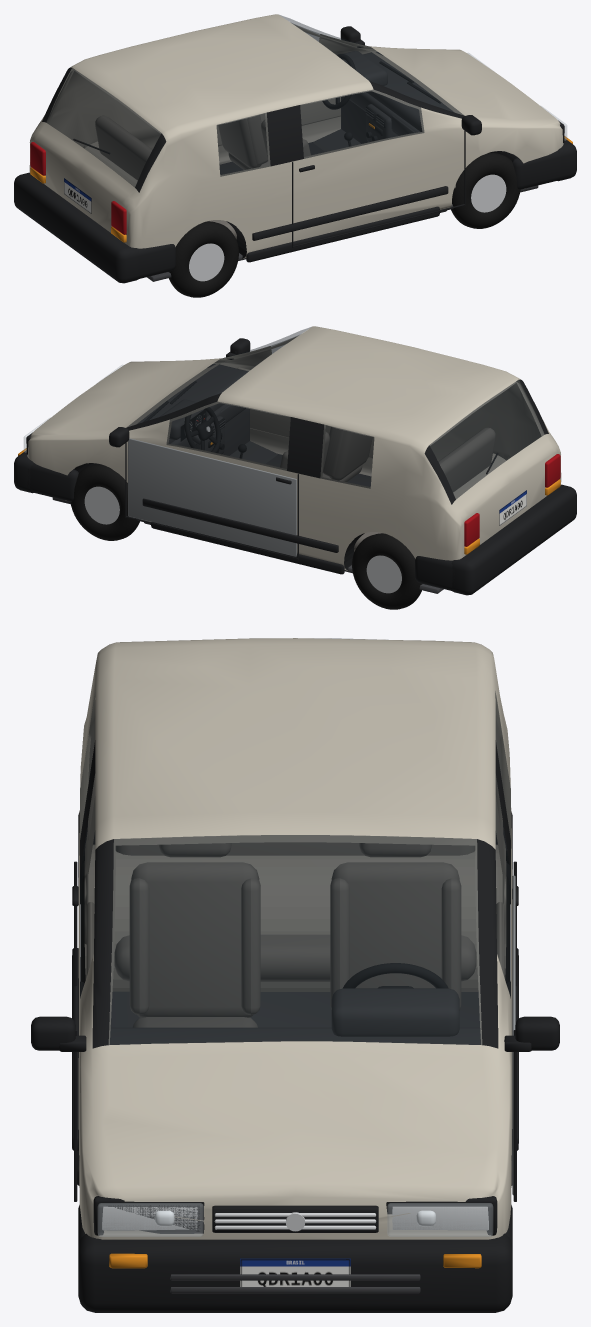
File: quadradinho.glb
The picture shows the model from 3 angles, top to bottom: view 1: azimuth 30°, elevation 25°; view 2: azimuth 150°, elevation 25°; view 3: azimuth 270°, elevation 25°; orthographic projection. The views are drawn at different scales.
Parts seen in each view (by area): view 1: Body, Details, Wheel_RR, Wheel_FR; view 2: Body, Details, Door_L, Wheel_RL, Wheel_FL, SteeringWheel; view 3: Body, Details, SteeringWheel, Door_L.
Boxes of the visible parts, bbox=[...] form: Body: bbox=[29, 14, 563, 258]; Details: bbox=[14, 25, 576, 283]; Wheel_RR: bbox=[169, 221, 238, 297]; Wheel_FR: bbox=[451, 152, 520, 228]; Body: bbox=[27, 326, 561, 570]; Details: bbox=[14, 336, 576, 595]; Door_L: bbox=[128, 438, 296, 556]; Wheel_RL: bbox=[352, 533, 422, 609]; Wheel_FL: bbox=[70, 464, 139, 540]; SteeringWheel: bbox=[184, 407, 221, 452]; Body: bbox=[78, 638, 512, 1239]; Details: bbox=[31, 717, 559, 1312]; SteeringWheel: bbox=[343, 963, 447, 988]; Door_L: bbox=[512, 875, 515, 1195].
Size of the model in its own units: 3.64 by 1.33 by 1.8.
Materials: 16 (2 with a texture image).
